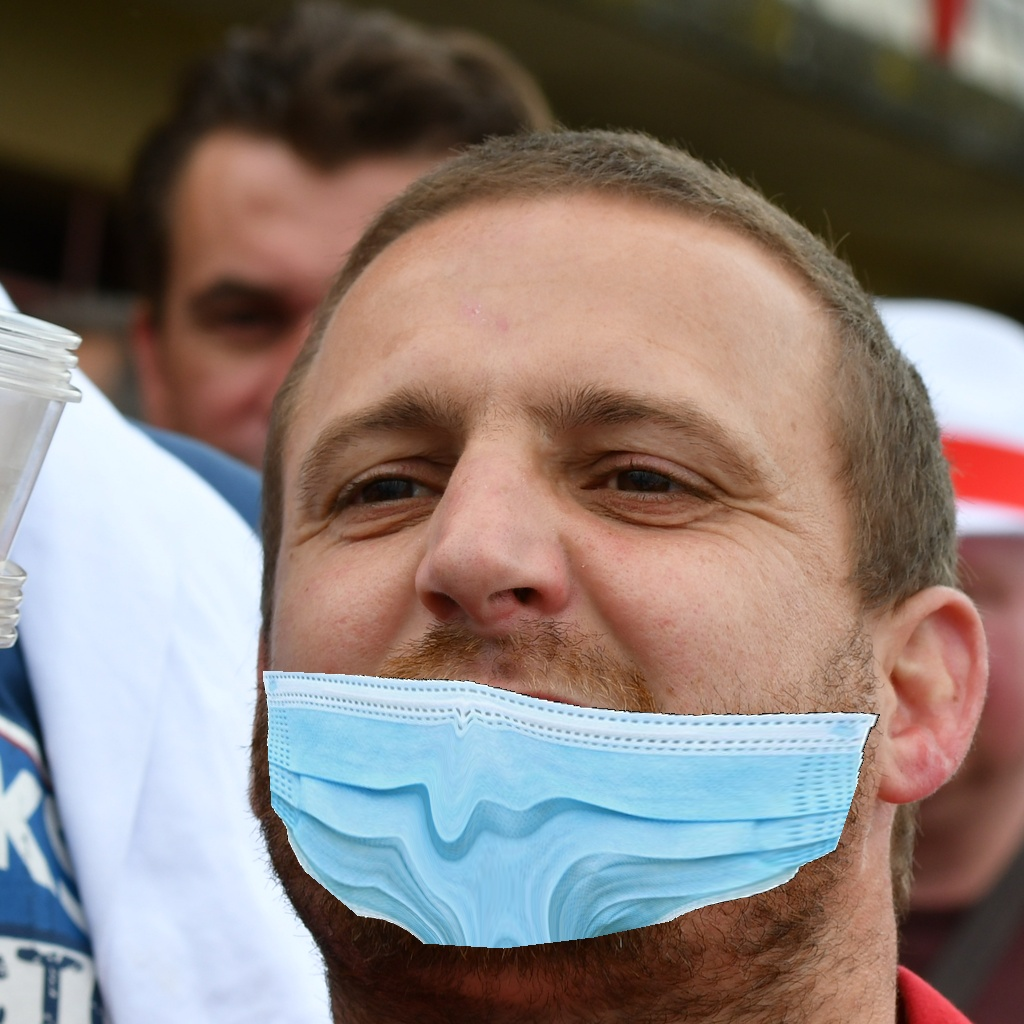mask_weared_incorrect: (242, 373, 883, 966)
